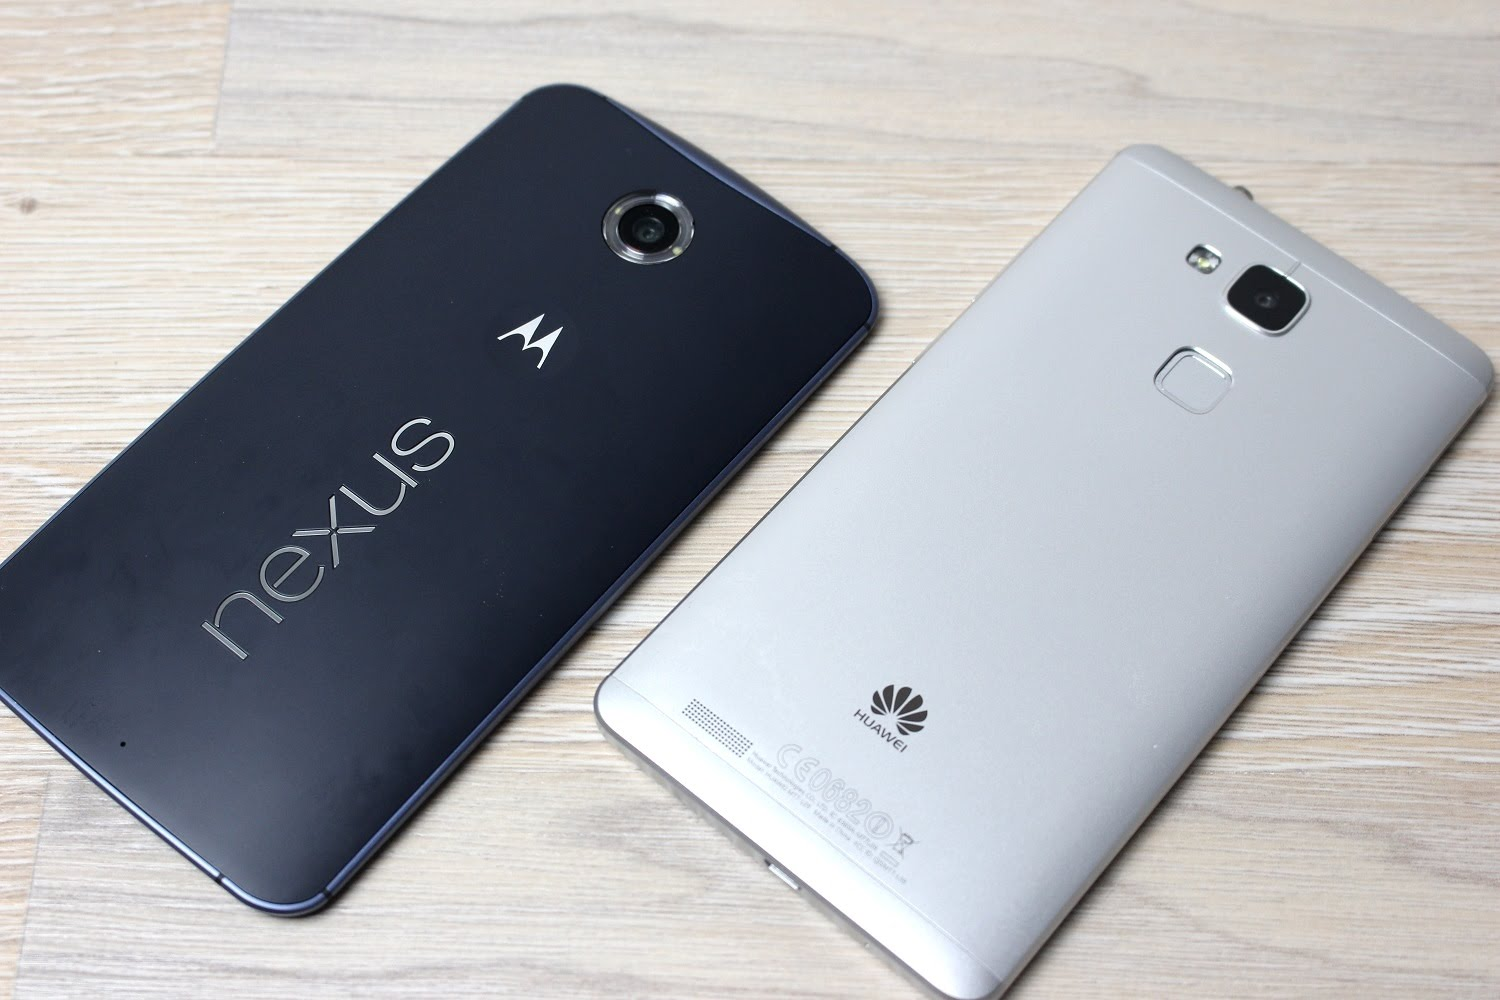smartphone: (592, 143, 1494, 1000), (1, 81, 881, 919)
